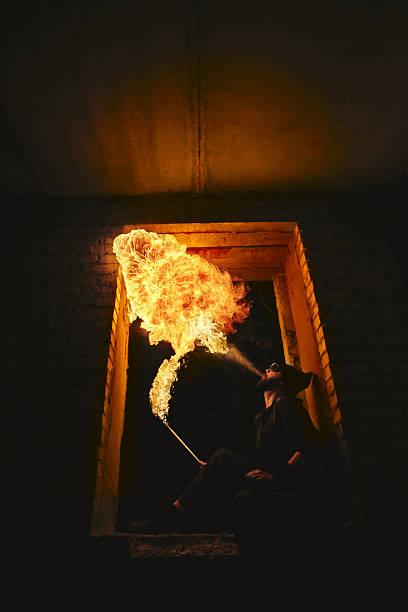Fire: (110, 220, 260, 422)
